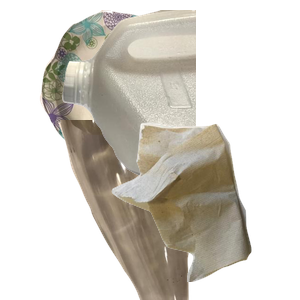glass: (56, 120, 241, 300)
paper: (37, 10, 219, 167)
plastic: (60, 10, 300, 190)
trash: (109, 120, 300, 300)
